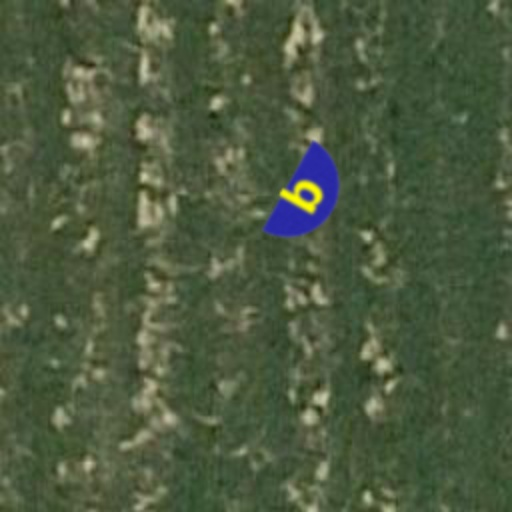semicircle: (238, 126, 382, 270)
